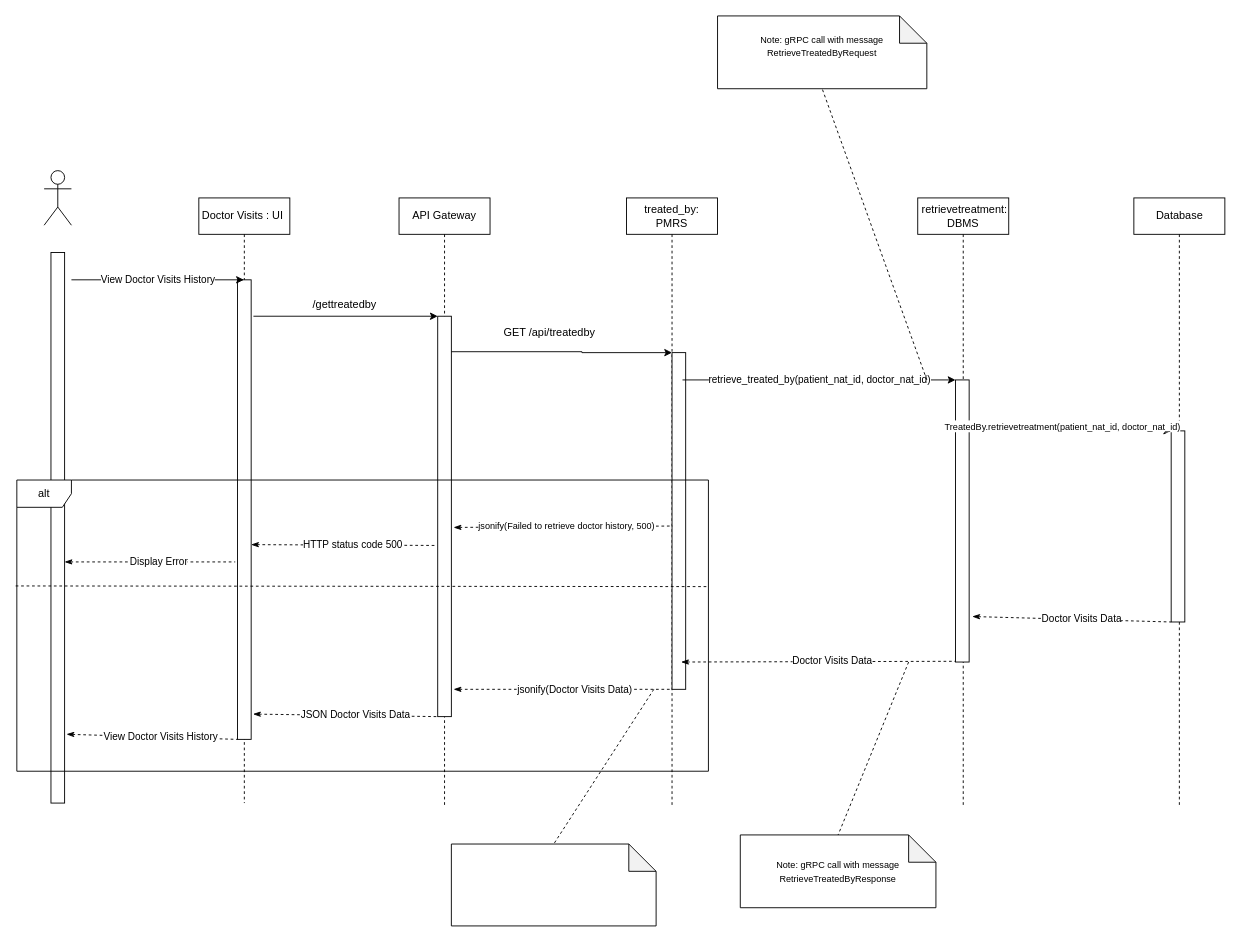
The diagram is 1241 pixels wide and 942 high, and some of its shapes have lost their labels. Here are the shapes that lost their labels. From the top down, the centre of each, then its label:
point 57,197: Patient
point 553,884: Note: Data converted to JSON using jsonify
